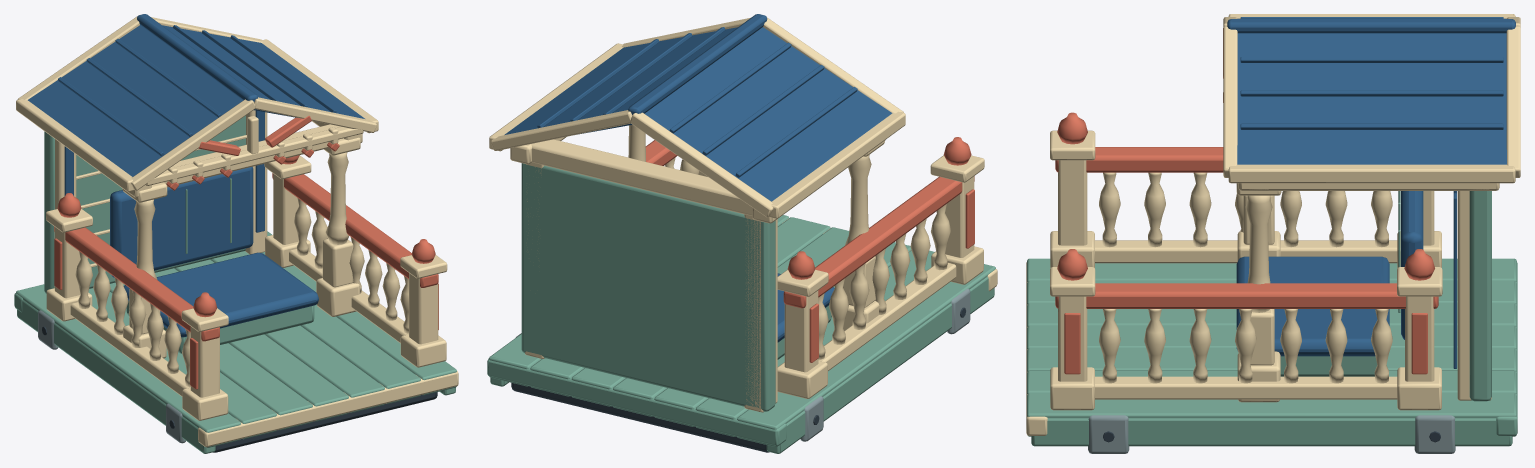
The model's file is painted_porch.glb.
The picture shows the model from 3 angles, left to right: view 1: azimuth 30°, elevation 25°; view 2: azimuth 150°, elevation 25°; view 3: azimuth 270°, elevation 25°; orthographic projection. The views are drawn at different scales.
Parts seen in each view (by area): view 1: painted_porch_SF_PorchCream, painted_porch_SF_PorchCobalt, painted_porch_SF_PorchMint, painted_porch_SF_PorchCoral, painted_porch_SF_PorchUndercarriage, painted_porch_SF_PorchMountMetal; view 2: painted_porch_SF_PorchMint, painted_porch_SF_PorchCream, painted_porch_SF_PorchCobalt, painted_porch_SF_PorchCoral, painted_porch_SF_PorchUndercarriage, painted_porch_SF_PorchMountMetal; view 3: painted_porch_SF_PorchCream, painted_porch_SF_PorchCobalt, painted_porch_SF_PorchMint, painted_porch_SF_PorchCoral, painted_porch_SF_PorchMountMetal.
Part boxes in pixels (box(x1,y1,x2,y2)): painted_porch_SF_PorchCream: box(16, 16, 458, 447); painted_porch_SF_PorchCobalt: box(28, 14, 364, 337); painted_porch_SF_PorchMint: box(14, 115, 456, 453); painted_porch_SF_PorchCoral: box(54, 115, 438, 389); painted_porch_SF_PorchUndercarriage: box(42, 326, 437, 452); painted_porch_SF_PorchMountMetal: box(38, 310, 185, 443); painted_porch_SF_PorchMint: box(487, 163, 995, 453); painted_porch_SF_PorchCream: box(489, 17, 997, 412); painted_porch_SF_PorchCobalt: box(504, 14, 892, 342); painted_porch_SF_PorchCoral: box(645, 137, 974, 362); painted_porch_SF_PorchUndercarriage: box(511, 307, 965, 452); painted_porch_SF_PorchMountMetal: box(516, 288, 970, 441); painted_porch_SF_PorchCream: box(1026, 14, 1520, 435); painted_porch_SF_PorchCobalt: box(1227, 17, 1515, 368); painted_porch_SF_PorchMint: box(1027, 191, 1517, 446); painted_porch_SF_PorchCoral: box(1055, 28, 1438, 374); painted_porch_SF_PorchMountMetal: box(1088, 415, 1455, 453).
Bounding box in the file's own units: 2.21 × 2.29 × 2.88.
